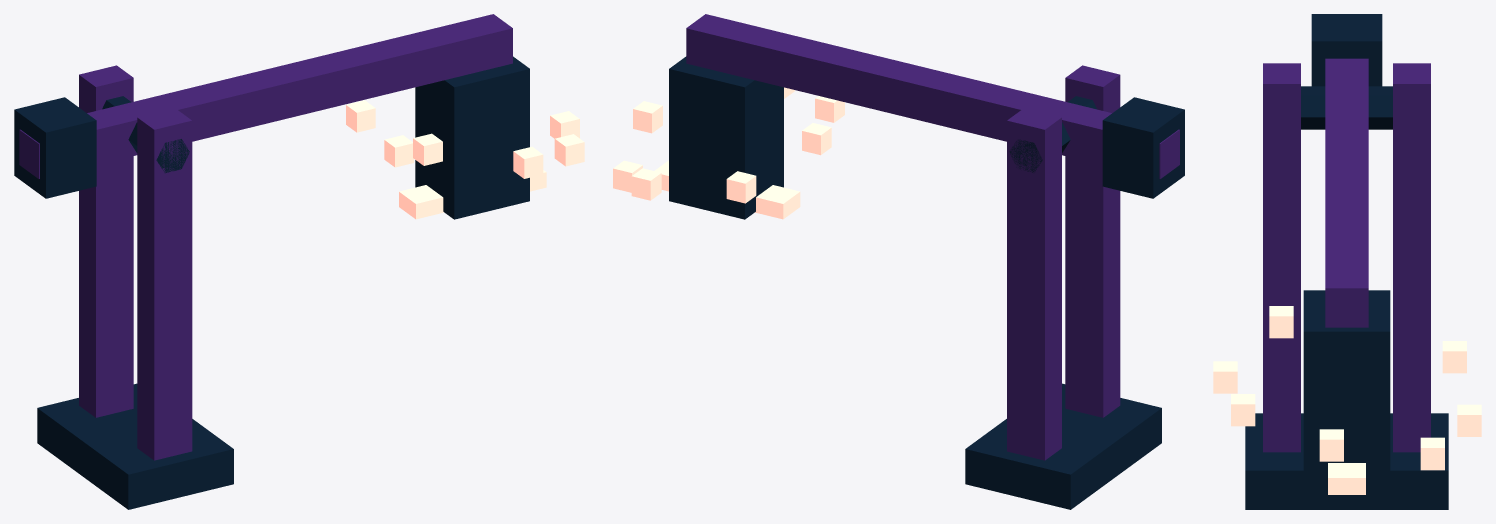
Rendered from hammer.glb.
3 views of the same model, side by side, from view 1: azimuth 30°, elevation 25°; view 2: azimuth 150°, elevation 25°; view 3: azimuth 270°, elevation 25° (orthographic). The views are drawn at different scales.
Visible parts, largest first — view 1: Frame, Arm, Sparks, Bar; view 2: Frame, Arm, Sparks, Bar; view 3: Frame, Arm, Sparks, Bar.
Part boxes in pixels (box(x1,y1,x2,y2)): Frame: box(37, 65, 233, 509); Arm: box(14, 14, 529, 219); Sparks: box(346, 100, 584, 178); Bar: box(399, 170, 546, 219); Frame: box(965, 65, 1161, 509); Arm: box(669, 14, 1184, 219); Sparks: box(613, 87, 844, 203); Bar: box(654, 160, 800, 219); Frame: box(1245, 63, 1448, 509); Arm: box(1301, 14, 1392, 478); Sparks: box(1213, 306, 1481, 470); Bar: box(1328, 463, 1365, 494).
Size of the model in its own units: 2.56 by 1.67 by 0.99.
